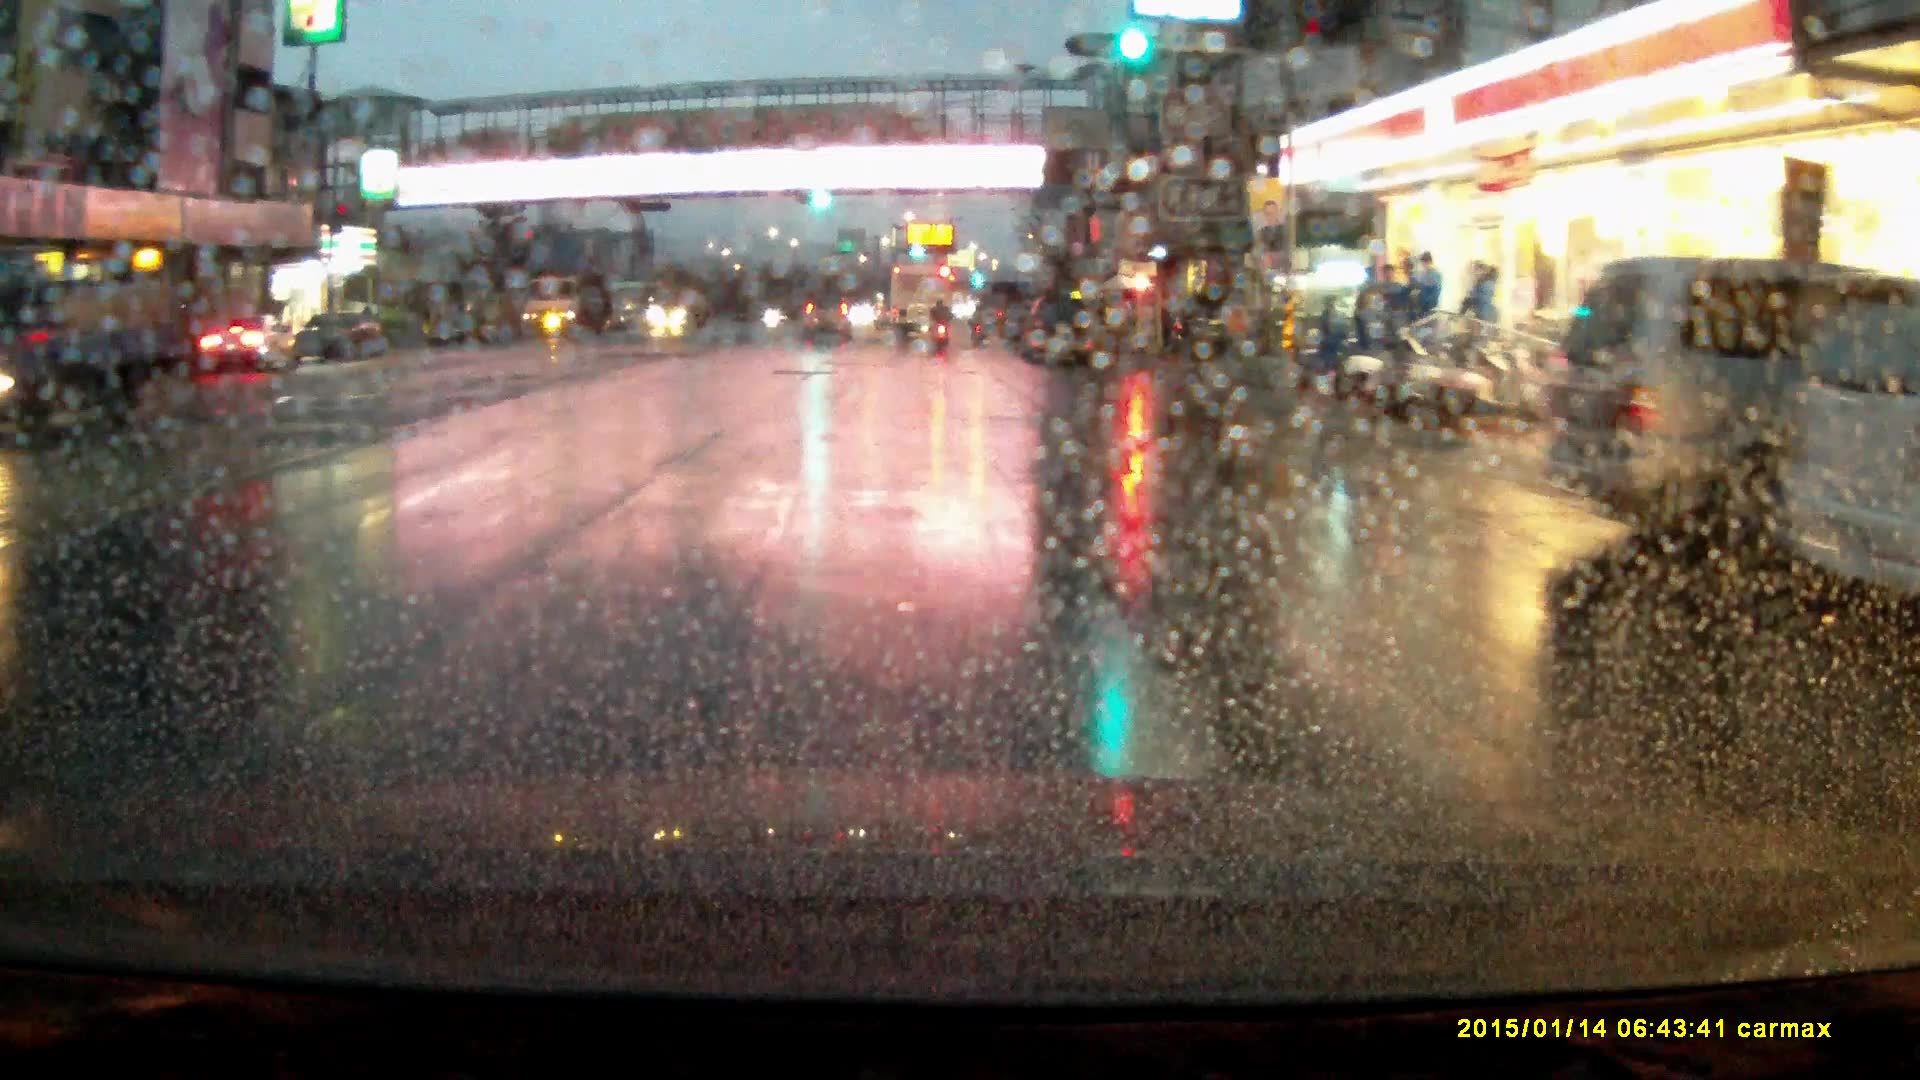rider: (930, 295, 956, 350)
vehicle: (1547, 254, 1897, 564), (6, 271, 185, 429), (519, 274, 611, 340), (1023, 291, 1095, 368), (290, 311, 390, 363), (891, 259, 952, 342), (1166, 298, 1249, 358), (801, 296, 856, 345), (656, 282, 713, 329)
